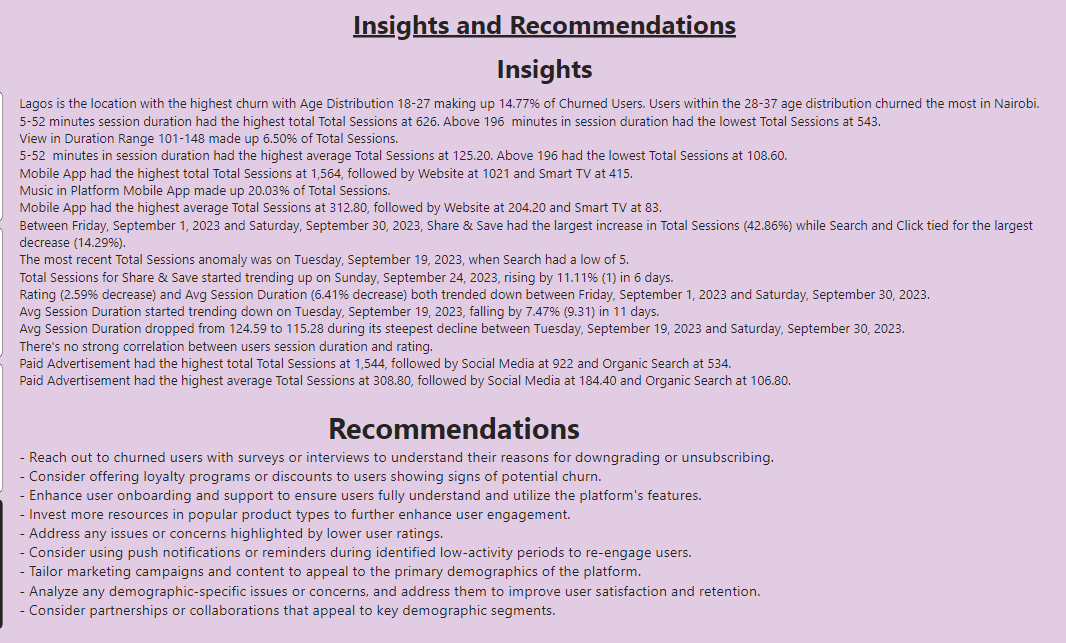

This screenshot's page, from the dashboard's own definition file:
{"tool":"powerbi","page":{"name":"Insights","canvas":[2280,1280],"ordinal":3},"visuals":[{"type":"textbox","box":[290.9,30.5,1950.5,1160.9],"z":1000},{"type":"pageNavigator","box":[30.5,193.9,235.5,997.4],"z":2000}]}

Visuals, with their boxes on the page's 2280x1280 design canvas (x1, y1, x2, y2). These are canvas units, not pixel positions in the 1066x643 screenshot, which may show the page scaled, cropped or inside an application window:
textbox: l=291, t=30, r=2241, b=1191
pageNavigator: l=30, t=194, r=266, b=1191
